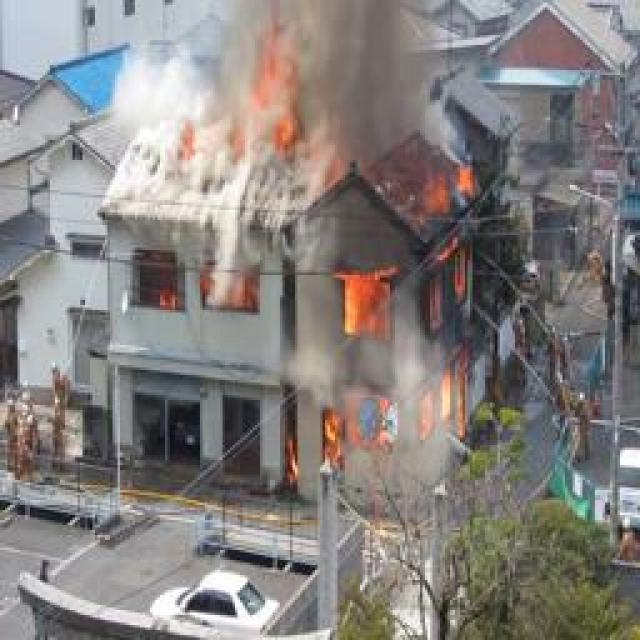Fire: (279, 144, 477, 494), (196, 39, 296, 141)
